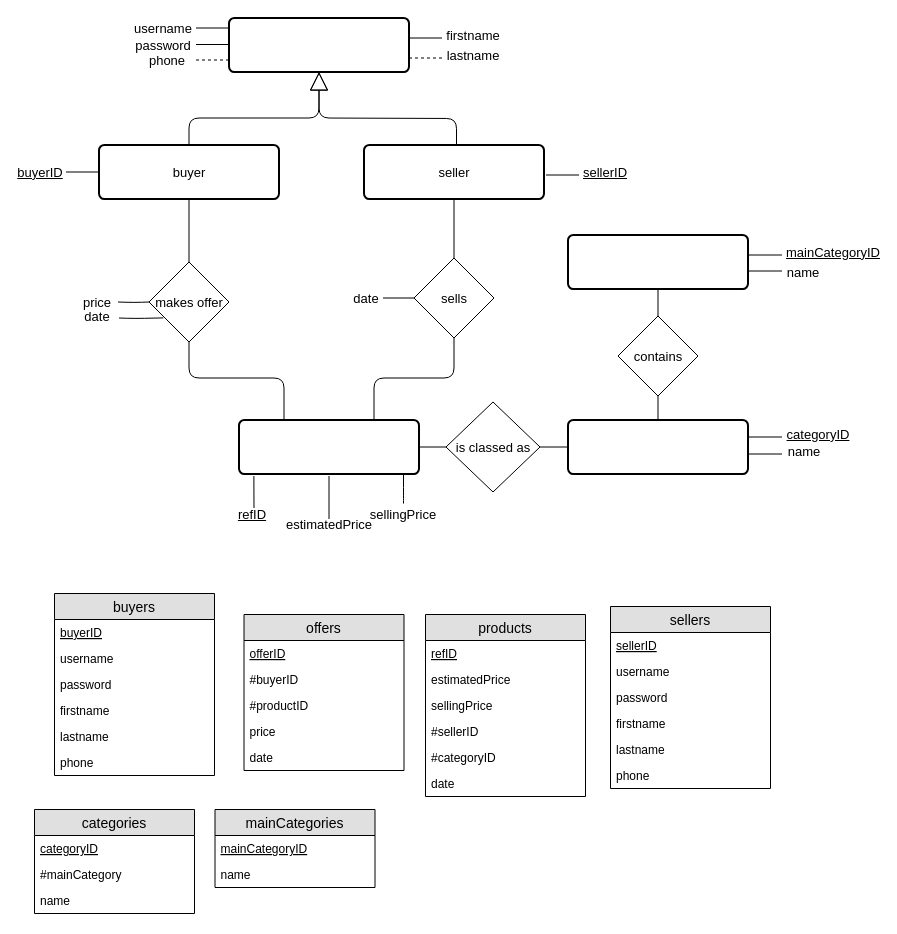
Image size: 897x934. Some labels were removed from this diagram. The shapes that lost their labels are listed below. From the top down, each one's centre as x and y in pixels, then its label:
At [319,44]: "user".
At [657,262]: "mainCategory".
At [329,446]: "product".
At [657,446]: "category".
